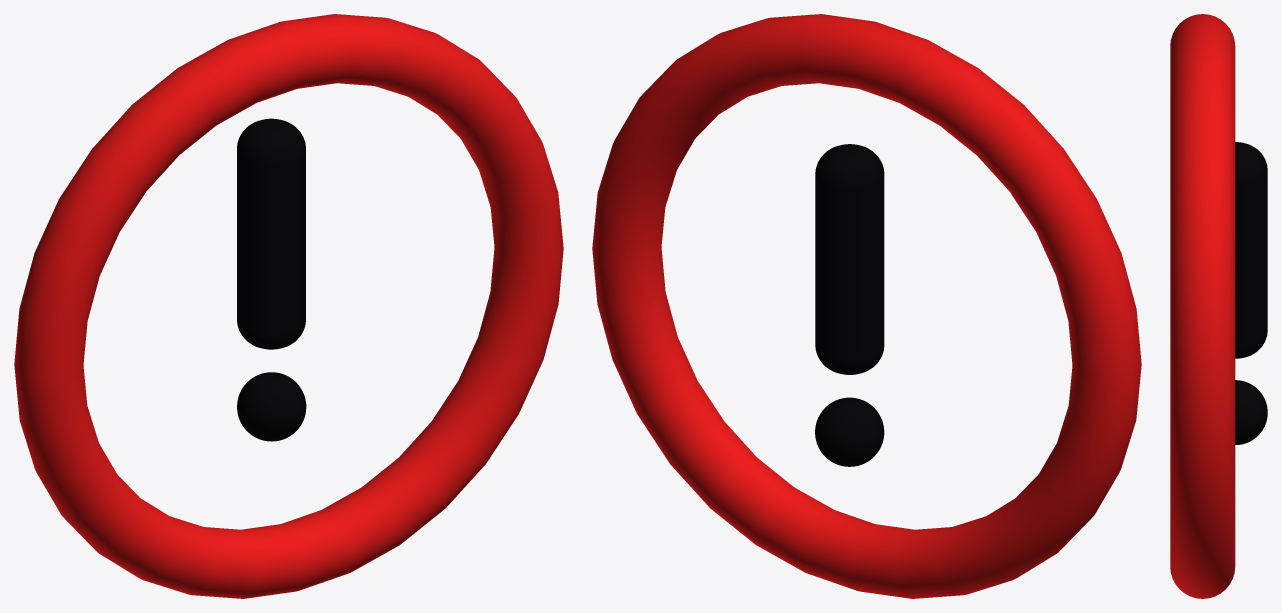
The model's file is warning.glb.
The picture shows the model from 3 angles, left to right: view 1: azimuth 30°, elevation 25°; view 2: azimuth 150°, elevation 25°; view 3: azimuth 270°, elevation 25°; orthographic projection. The views are drawn at different scales.
Visible parts, largest first — view 1: Torus, Cylinder, Sphere; view 2: Torus, Cylinder, Sphere; view 3: Torus, Cylinder, Sphere.
Part boxes in pixels (x1,y1,x2,y2): Torus: [14, 14, 563, 598]; Cylinder: [237, 118, 305, 349]; Sphere: [237, 372, 306, 441]; Torus: [592, 14, 1141, 598]; Cylinder: [815, 144, 884, 374]; Sphere: [815, 397, 884, 466]; Torus: [1170, 14, 1235, 598]; Cylinder: [1235, 142, 1267, 358]; Sphere: [1235, 380, 1267, 444].
Size of the model in its own units: 0.09 by 0.09 by 0.015.
